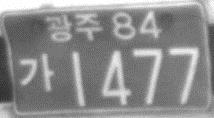1: (70, 49, 87, 109)
4: (98, 49, 133, 104), (137, 9, 162, 39)
7: (166, 46, 201, 107), (131, 46, 164, 105)
8: (110, 10, 136, 41)
가: (17, 53, 54, 93)
광주_O: (44, 12, 103, 43)
